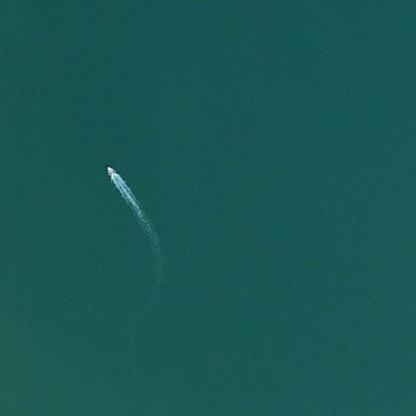ship: (97, 159, 121, 180)
